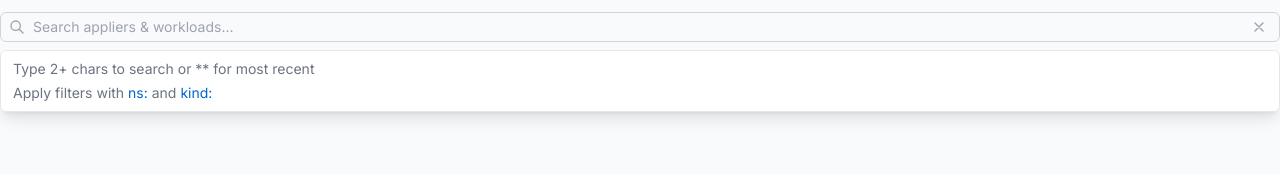
it: QuickSearch › Search Results › should display empty state when no results found
The image size is (1280, 174).
Type "flux" into the field with placeholder "Search appliers & workloads..." at (636, 27), box [33,17,1239,37]
Wait 400 ms
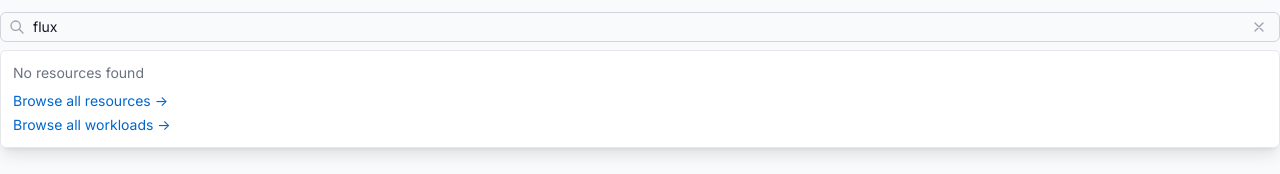
Result: the text "No resources found" is shown at [13,64,144,81]
